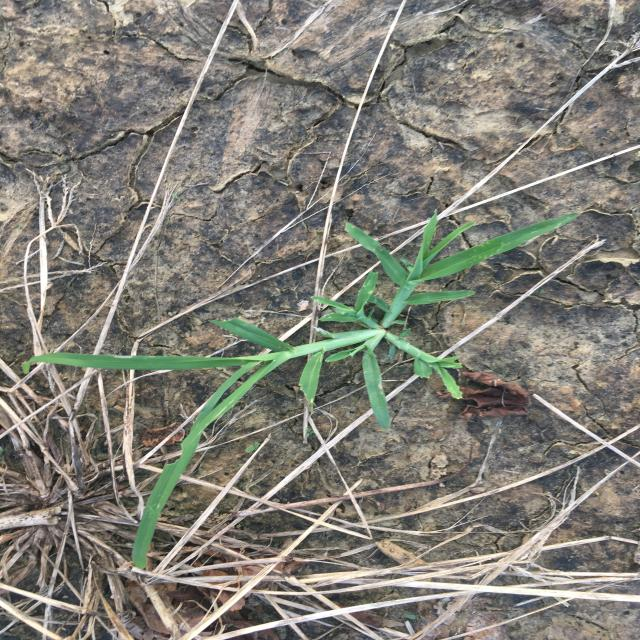Goosegrass: (19, 207, 584, 571)
